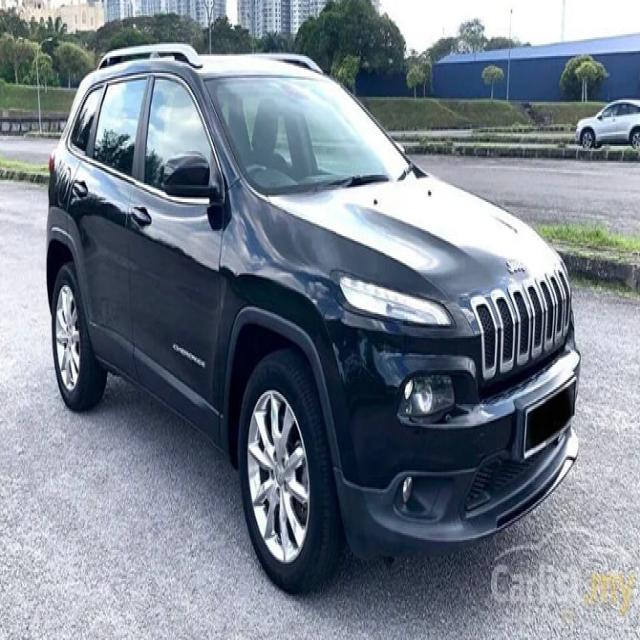Car: (577, 99, 640, 159)
Zeep: (37, 45, 582, 569)
